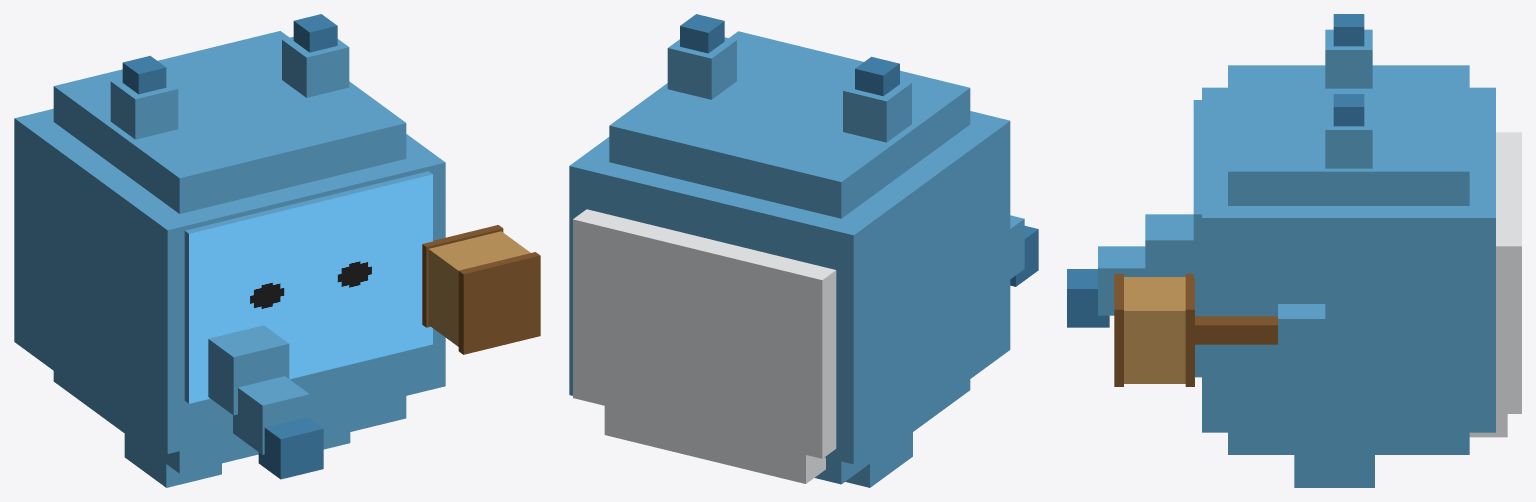
The model's file is yumemin.glb.
3 renders of one model, left to right at view 1: azimuth 30°, elevation 25°; view 2: azimuth 150°, elevation 25°; view 3: azimuth 270°, elevation 25°, orthographic. The views are drawn at different scales.
Visible parts, largest first — view 1: YumeminVoxel_Body, YumeminVoxel_FacePanel, YumeminVoxel_BodyTop, YumeminVoxel_PrimaryMalletCapFront, YumeminVoxel_BodyBottom, YumeminVoxel_TrunkBase, YumeminVoxel_PrimaryMalletHead, YumeminVoxel_TrunkMid, YumeminVoxel_TrunkTip, YumeminVoxel_Ear_-1, YumeminVoxel_Ear_1, YumeminVoxel_Foot_-1 (+3 smaller); view 2: YumeminVoxel_Body, YumeminVoxel_RearWhite, YumeminVoxel_BodyTop, YumeminVoxel_RearWhiteLow, YumeminVoxel_Ear_1, YumeminVoxel_Ear_-1, YumeminVoxel_BodyBottom, YumeminVoxel_EarTip_1, YumeminVoxel_EarTip_-1, YumeminVoxel_Foot_-1, YumeminVoxel_TrunkTip, YumeminVoxel_TrunkMid; view 3: YumeminVoxel_Body, YumeminVoxel_BodyTop, YumeminVoxel_RearWhite, YumeminVoxel_PrimaryMalletHead, YumeminVoxel_BodyBottom, YumeminVoxel_TrunkBase, YumeminVoxel_PrimaryHand, YumeminVoxel_Foot_1, YumeminVoxel_PrimaryHandle, YumeminVoxel_Ear_-1, YumeminVoxel_Ear_1, YumeminVoxel_TrunkMid (+6 smaller).
Boxes of the visible parts, <box> form: YumeminVoxel_Body: <box>14,108,445,453</box>; YumeminVoxel_FacePanel: <box>184,171,432,403</box>; YumeminVoxel_BodyTop: <box>53,31,406,213</box>; YumeminVoxel_PrimaryMalletCapFront: <box>458,252,540,354</box>; YumeminVoxel_BodyBottom: <box>53,371,406,473</box>; YumeminVoxel_TrunkBase: <box>208,325,289,415</box>; YumeminVoxel_PrimaryMalletHead: <box>428,231,530,346</box>; YumeminVoxel_TrunkMid: <box>233,376,309,454</box>; YumeminVoxel_TrunkTip: <box>258,417,323,479</box>; YumeminVoxel_Ear_-1: <box>110,78,178,139</box>; YumeminVoxel_Ear_1: <box>282,37,349,97</box>; YumeminVoxel_Foot_-1: <box>124,434,221,487</box>; YumeminVoxel_Body: <box>569,111,1010,464</box>; YumeminVoxel_RearWhite: <box>573,209,836,458</box>; YumeminVoxel_BodyTop: <box>609,31,970,218</box>; YumeminVoxel_RearWhiteLow: <box>604,406,825,483</box>; YumeminVoxel_Ear_1: <box>667,37,736,99</box>; YumeminVoxel_Ear_-1: <box>843,80,911,142</box>; YumeminVoxel_BodyBottom: <box>815,379,970,484</box>; YumeminVoxel_EarTip_1: <box>680,14,724,53</box>; YumeminVoxel_EarTip_-1: <box>855,56,899,96</box>; YumeminVoxel_Foot_-1: <box>845,432,912,487</box>; YumeminVoxel_TrunkTip: <box>1010,226,1038,286</box>; YumeminVoxel_TrunkMid: <box>1010,215,1024,278</box>; YumeminVoxel_Body: <box>1202,87,1495,432</box>; YumeminVoxel_BodyTop: <box>1228,65,1469,205</box>; YumeminVoxel_RearWhite: <box>1496,132,1521,413</box>; YumeminVoxel_PrimaryMalletHead: <box>1124,277,1185,383</box>; YumeminVoxel_BodyBottom: <box>1228,432,1469,454</box>; YumeminVoxel_TrunkBase: <box>1145,214,1193,276</box>; YumeminVoxel_PrimaryHand: <box>1278,304,1325,361</box>; YumeminVoxel_Foot_1: <box>1294,455,1374,487</box>; YumeminVoxel_PrimaryHandle: <box>1195,316,1277,344</box>; YumeminVoxel_Ear_-1: <box>1325,29,1372,88</box>; YumeminVoxel_Ear_1: <box>1325,110,1372,168</box>; YumeminVoxel_TrunkMid: <box>1098,246,1145,315</box>.
Size of the model in its own units: 1.53 by 1.79 by 1.92.
Materials: 6 (1 with a texture image).
